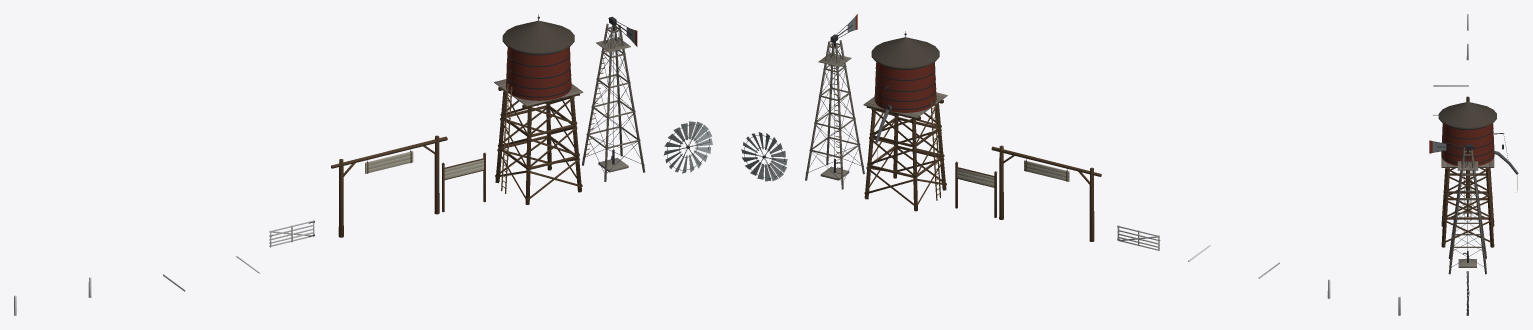
Rendered from yard.fbx.
3 views of the same model, side by side, from view 1: azimuth 30°, elevation 25°; view 2: azimuth 150°, elevation 25°; view 3: azimuth 270°, elevation 25° (orthographic). The views are drawn at different scales.
Visible parts, largest first — view 1: water_tower, windmill_tower, ranch_gate, windmill_wheel, signpost, fence_gate; view 2: water_tower, windmill_tower, ranch_gate, windmill_wheel, signpost, fence_gate; view 3: water_tower, windmill_tower, windmill_wheel.
Part boxes in pixels (box(x1,y1,x2,y2)): water_tower: box(494, 14, 583, 204); windmill_tower: box(582, 16, 645, 181); ranch_gate: box(331, 135, 447, 237); windmill_wheel: box(663, 121, 712, 173); signpost: box(441, 152, 486, 212); fence_gate: box(269, 220, 314, 247); water_tower: box(863, 31, 947, 211); windmill_tower: box(805, 14, 864, 189); ranch_gate: box(991, 145, 1101, 241); windmill_wheel: box(741, 132, 787, 181); signpost: box(955, 161, 997, 217); fence_gate: box(1117, 225, 1160, 250); water_tower: box(1438, 96, 1518, 247); windmill_tower: box(1429, 140, 1486, 274); windmill_wheel: box(1466, 271, 1469, 315).
Size of the model in its own units: 46.66 by 12.46 by 6.37.
